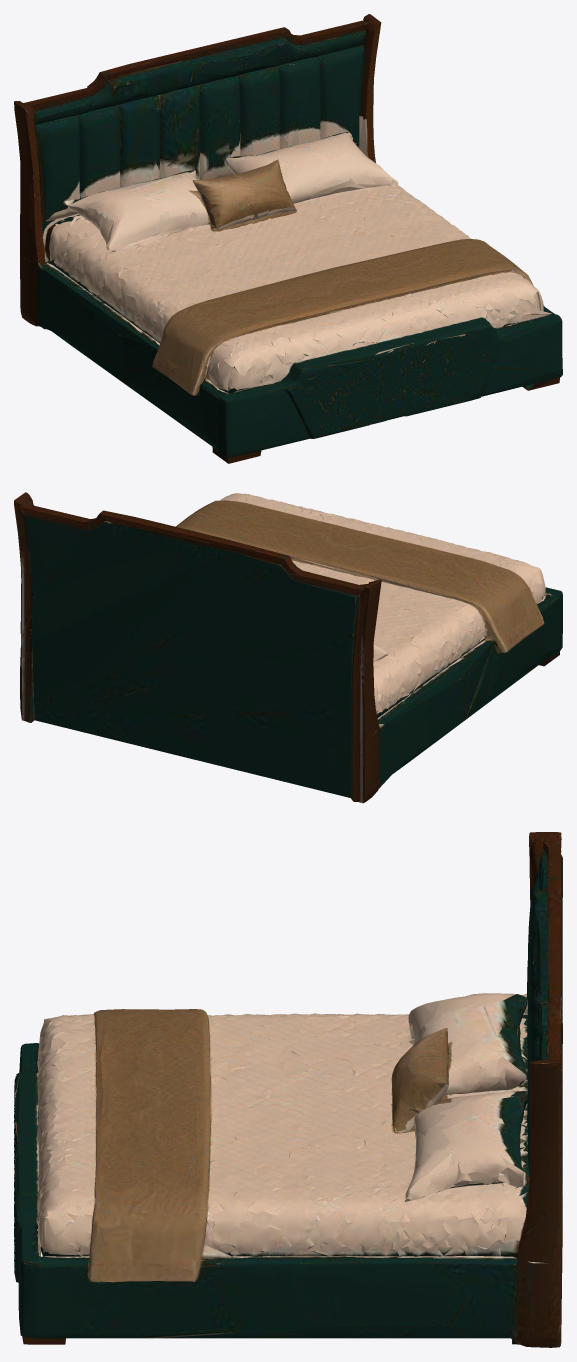
Rendered from majesty_glame_emerald_green_velvet_bed.glb.
3 views of the same model, one above another, from view 1: azimuth 30°, elevation 25°; view 2: azimuth 150°, elevation 25°; view 3: azimuth 270°, elevation 25° (orthographic). The views are drawn at different scales.
Visible parts, largest first — view 1: output_unwrapped; view 2: output_unwrapped; view 3: output_unwrapped.
Part boxes in pixels (<box>): output_unwrapped: <box>14,14,562,463</box>; output_unwrapped: <box>14,492,562,803</box>; output_unwrapped: <box>14,832,562,1347</box>.
Bounding box in the file's own units: 1.9 × 1.16 × 1.9.
1 material, 1 textured.
